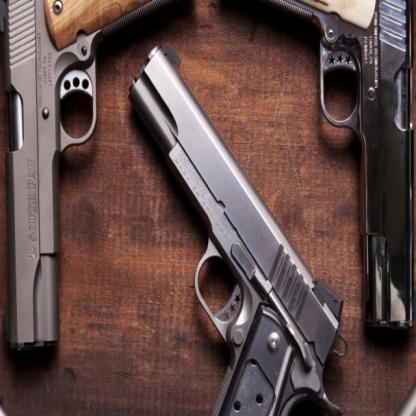gun: (102, 33, 355, 415), (0, 0, 204, 383), (217, 0, 416, 362)
